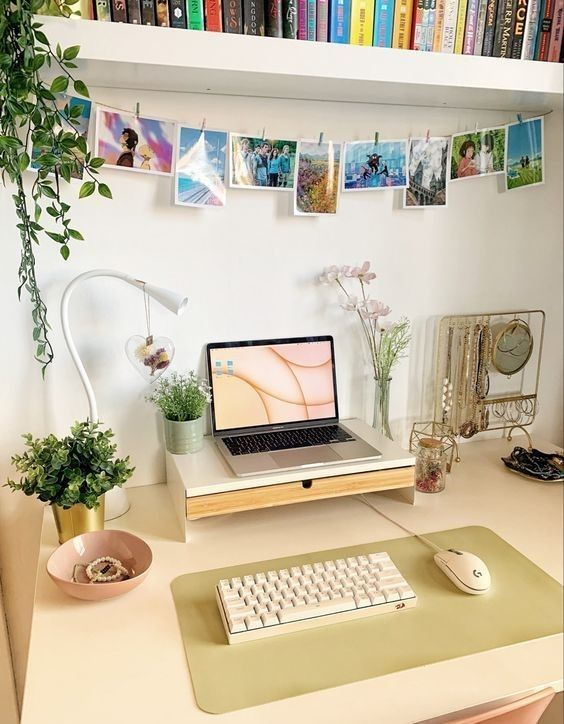not a gesture sign: (207, 336, 381, 475)
